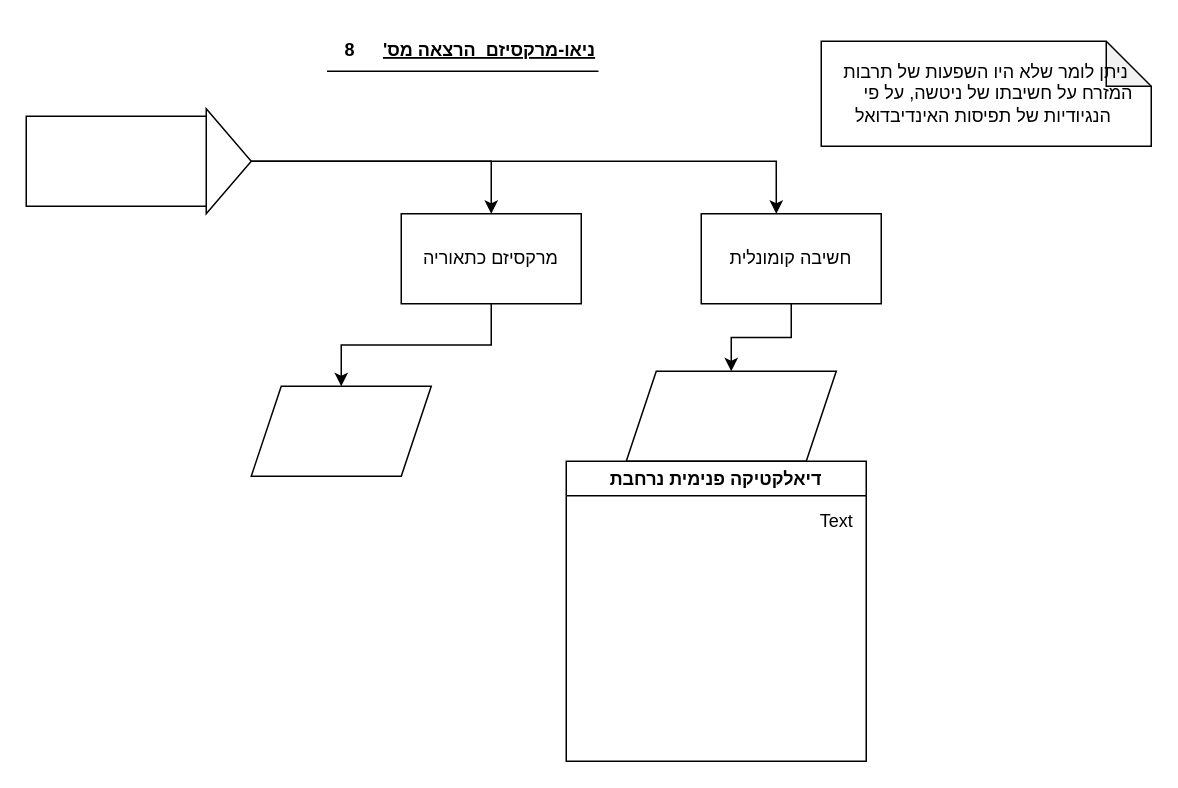
This 1178x788 diagram has some shape labels left out. The box of each missing label's shape, as (x1, y1, x2, y2) in pixels:
מתדולוגיה קומונלית: (25, 115, 206, 206)
ספרו של קסלר- חשכה בשעת צהריים: (625, 370, 836, 461)
